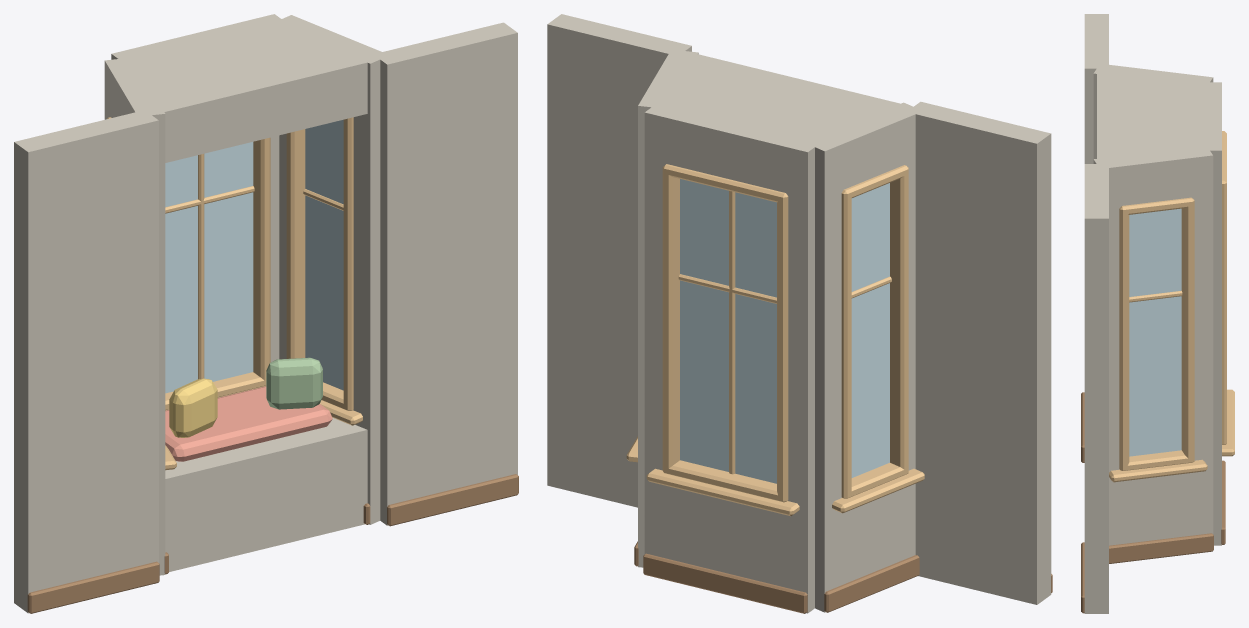
Rendered from cozy-home-interiors-wall-bay-window-3m-bd9cda7c.glb.
3 renders of one model, left to right at view 1: azimuth 30°, elevation 25°; view 2: azimuth 150°, elevation 25°; view 3: azimuth 270°, elevation 25°, orthographic. The views are drawn at different scales.
Visible parts, largest first — view 1: wall-bay-window-3m; view 2: wall-bay-window-3m; view 3: wall-bay-window-3m.
Part boxes in pixels (<box>): wall-bay-window-3m: <box>14,14,518,613</box>; wall-bay-window-3m: <box>547,14,1052,613</box>; wall-bay-window-3m: <box>1081,14,1234,613</box>.
Bounding box in the file's own units: 3 × 2.7 × 0.9526.
